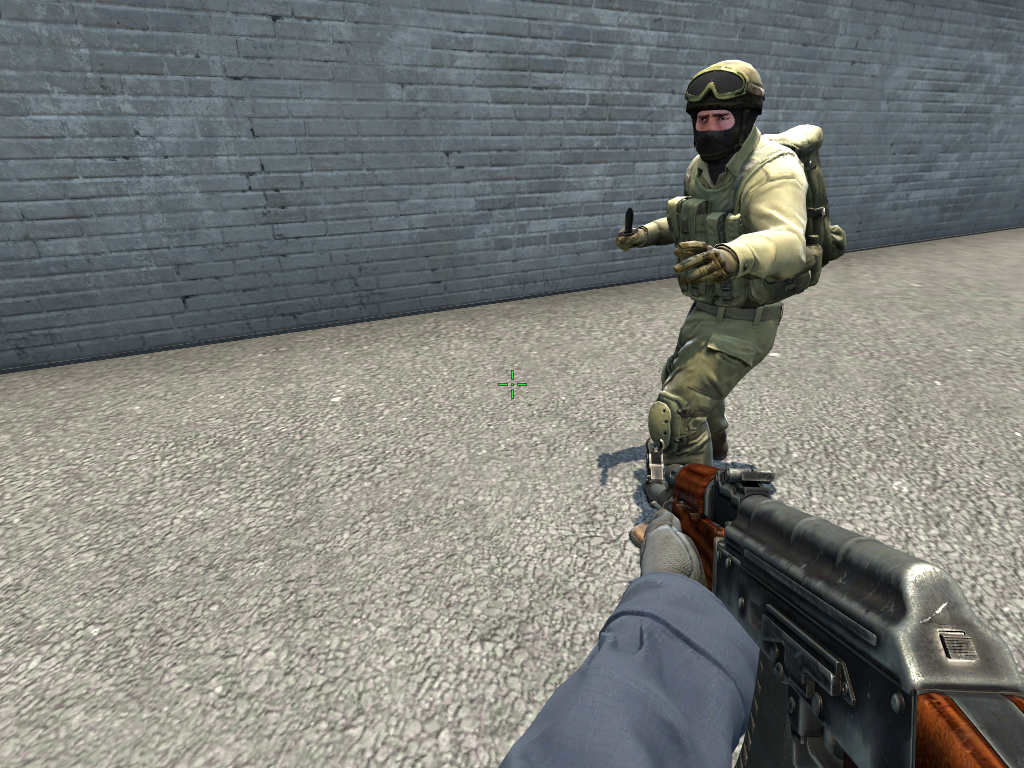ct head: (694, 65, 753, 158)
